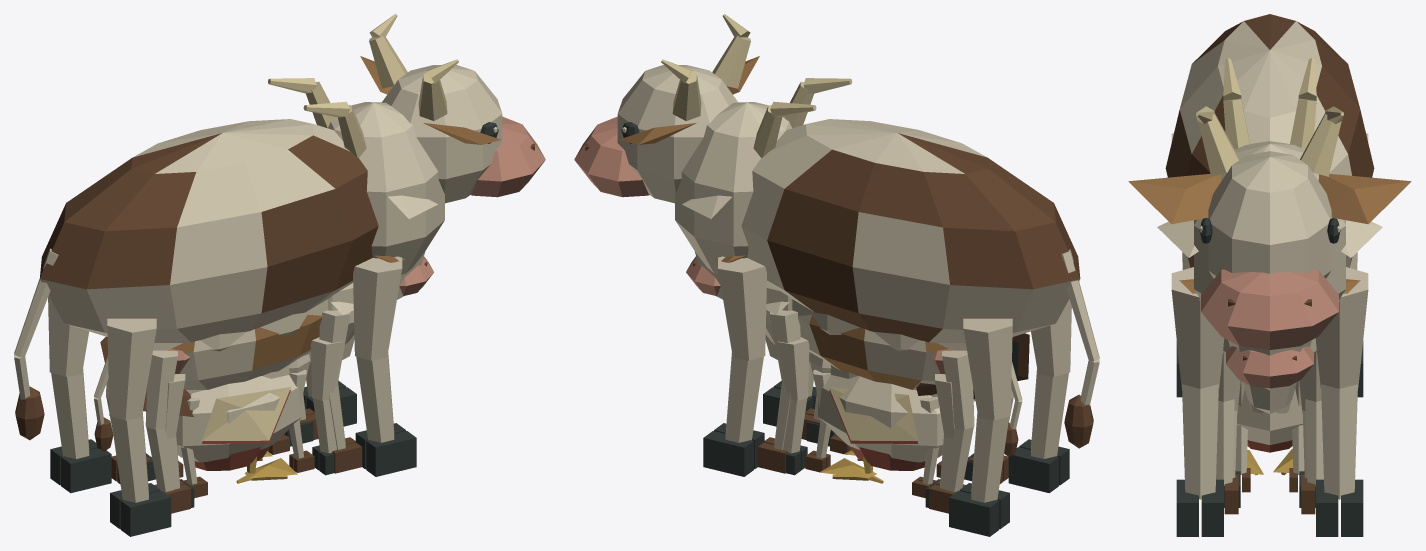
Rendered from riverside-livestock-kit.glb.
3 renders of one model, left to right at view 1: azimuth 30°, elevation 25°; view 2: azimuth 150°, elevation 25°; view 3: azimuth 270°, elevation 25°, orthographic. The views are drawn at different scales.
Parts seen in each view (by area): view 1: GEO-cow-body, GEO-cow-head, GEO-cow-leg-BL, GEO-cow-leg-FL, GEO-cow-leg-BR, GEO-calf-body, GEO-duck-body, GEO-goat-leg-BL, GEO-goat-head, GEO-calf-leg-FL, GEO-duck-wing-L, GEO-cow-tail (+10 smaller); view 2: GEO-cow-body, GEO-cow-head, GEO-cow-leg-BR, GEO-cow-leg-FR, GEO-cow-leg-BL, GEO-calf-body, GEO-duck-body, GEO-goat-leg-BR, GEO-goat-head, GEO-cow-tail, GEO-calf-leg-FR, GEO-goat-leg-FR (+11 smaller); view 3: GEO-cow-head, GEO-cow-body, GEO-cow-leg-FL, GEO-cow-leg-FR, GEO-goat-head, GEO-calf-head, GEO-goat-leg-FL, GEO-goat-leg-FR, GEO-duck-body, GEO-calf-body, GEO-kid-leg-FL, GEO-kid-leg-FR (+5 smaller).
Part boxes in pixels (<box>): GEO-cow-body: <box>39,102,444,373</box>; GEO-cow-head: <box>360,14,545,203</box>; GEO-cow-leg-BL: <box>107,318,171,536</box>; GEO-cow-leg-FL: <box>353,256,416,476</box>; GEO-cow-leg-BR: <box>48,296,111,493</box>; GEO-calf-body: <box>171,283,354,389</box>; GEO-duck-body: <box>176,354,310,462</box>; GEO-goat-leg-BL: <box>145,350,190,513</box>; GEO-goat-head: <box>268,78,437,218</box>; GEO-calf-leg-FL: <box>310,337,342,475</box>; GEO-duck-wing-L: <box>202,387,290,440</box>; GEO-cow-tail: <box>14,248,58,440</box>; GEO-cow-body: <box>675,102,1080,373</box>; GEO-cow-head: <box>574,14,759,203</box>; GEO-cow-leg-BR: <box>949,318,1012,536</box>; GEO-cow-leg-FR: <box>703,256,766,476</box>; GEO-cow-leg-BL: <box>1008,299,1071,493</box>; GEO-calf-body: <box>765,283,948,389</box>; GEO-duck-body: <box>809,354,943,462</box>; GEO-goat-leg-BR: <box>929,350,974,513</box>; GEO-goat-head: <box>682,78,852,218</box>; GEO-cow-tail: <box>1061,249,1099,448</box>; GEO-calf-leg-FR: <box>778,337,809,475</box>; GEO-goat-leg-FR: <box>758,310,800,473</box>; GEO-cow-head: <box>1128,106,1411,349</box>; GEO-cow-body: <box>1165,14,1374,389</box>; GEO-cow-leg-FL: <box>1171,267,1224,536</box>; GEO-cow-leg-FR: <box>1315,267,1368,536</box>; GEO-goat-head: <box>1157,58,1382,257</box>; GEO-calf-head: <box>1179,279,1360,388</box>; GEO-goat-leg-FL: <box>1216,352,1238,514</box>; GEO-goat-leg-FR: <box>1301,352,1323,514</box>; GEO-duck-body: <box>1237,388,1302,444</box>; GEO-calf-body: <box>1223,338,1316,413</box>; GEO-kid-leg-FL: <box>1235,381,1250,492</box>; GEO-kid-leg-FR: <box>1289,381,1304,492</box>.
Bounding box in the file's own units: 2.41 × 1.73 × 0.98.
